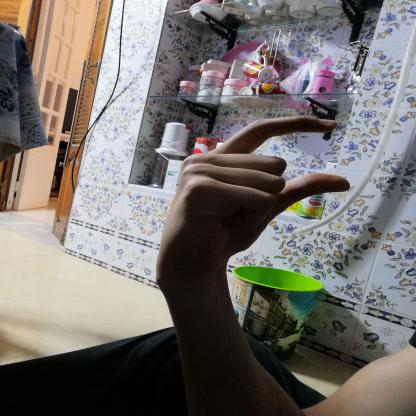DELL: (142, 110, 361, 272)
